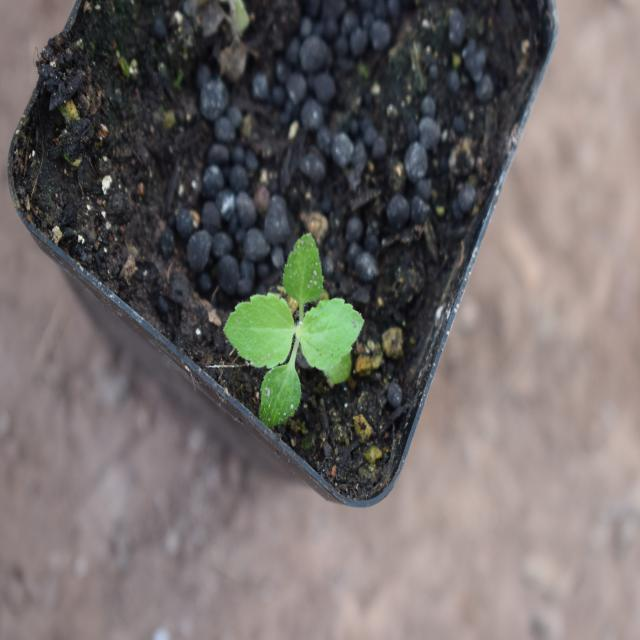billygoat_weed: (248, 240, 358, 443)
